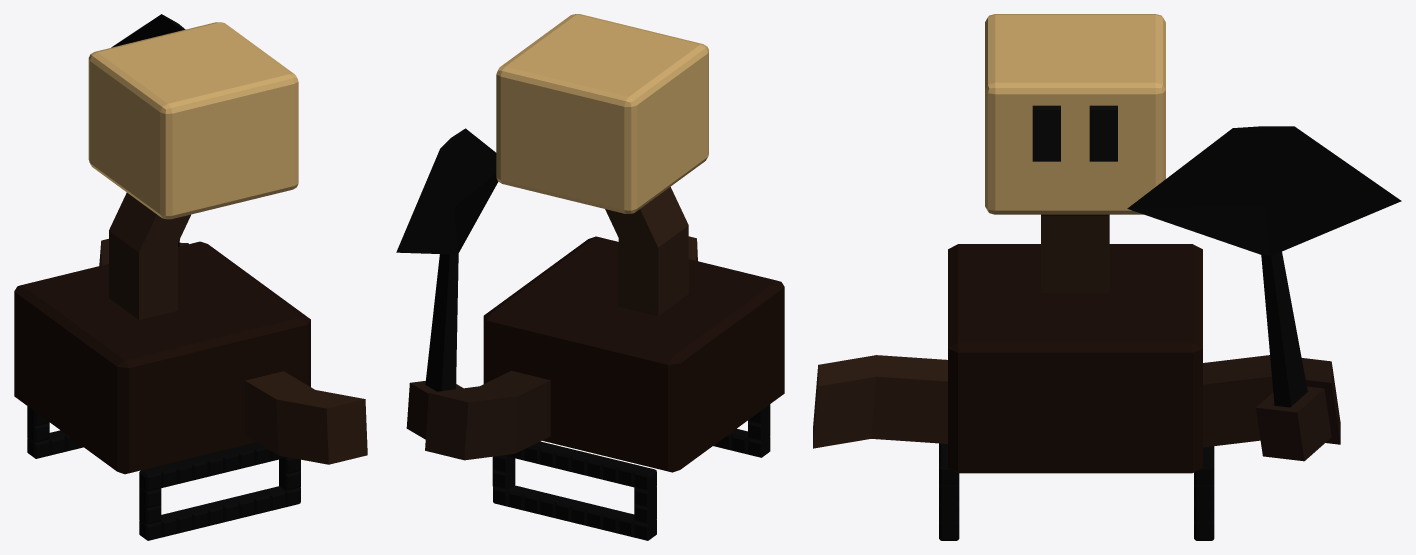
The model's file is Temp Robot.obj.
The picture shows the model from 3 angles, left to right: view 1: azimuth 30°, elevation 25°; view 2: azimuth 150°, elevation 25°; view 3: azimuth 270°, elevation 25°; orthographic projection. The views are drawn at different scales.
Parts seen in each view (by area): view 1: off; view 2: off; view 3: off.
Boxes of the visible parts, box(x1,y1,x2,y2) form: off: box(14, 14, 367, 540); off: box(396, 14, 784, 540); off: box(813, 14, 1401, 540).
Bounding box in the file's own units: 28.48 × 50.43 × 57.73.
